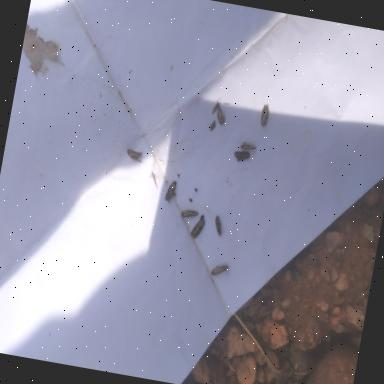pbw: (189, 217, 205, 241), (124, 148, 144, 164), (210, 262, 229, 278), (164, 180, 176, 204), (212, 215, 225, 237), (232, 150, 252, 164), (260, 104, 270, 128), (214, 108, 227, 126), (180, 209, 199, 220), (240, 141, 256, 152)
